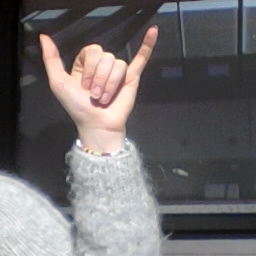Y: (35, 24, 162, 132)
